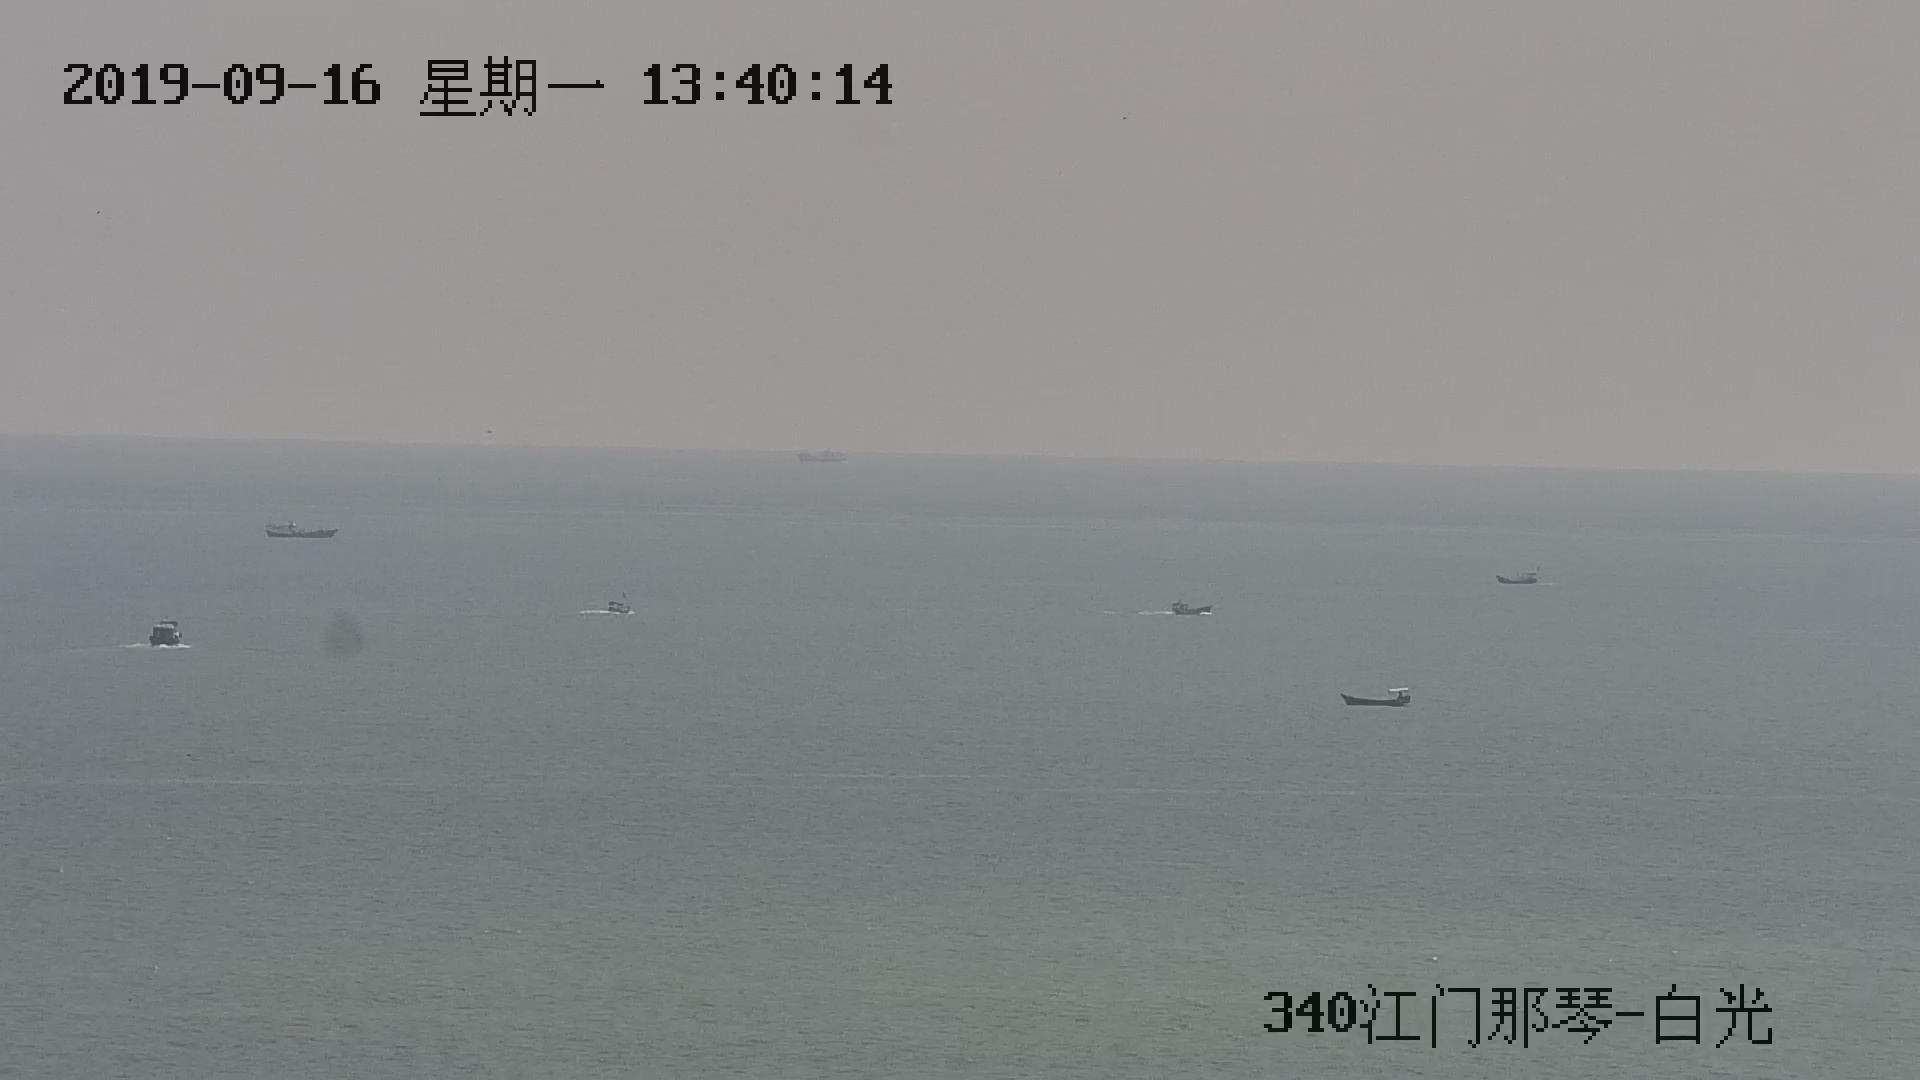ship: (266, 520, 340, 543), (144, 615, 191, 650), (1342, 688, 1416, 709), (596, 589, 637, 618), (1166, 597, 1217, 617), (1495, 568, 1539, 589)
